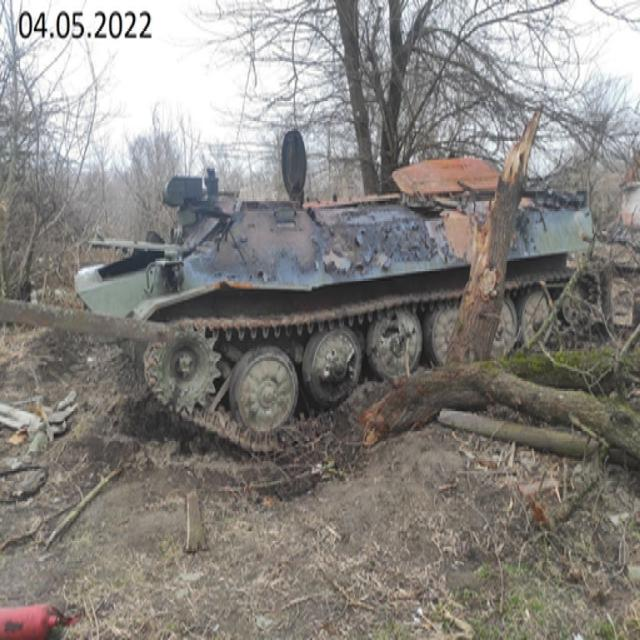APC-IFV: (74, 156, 591, 442)
